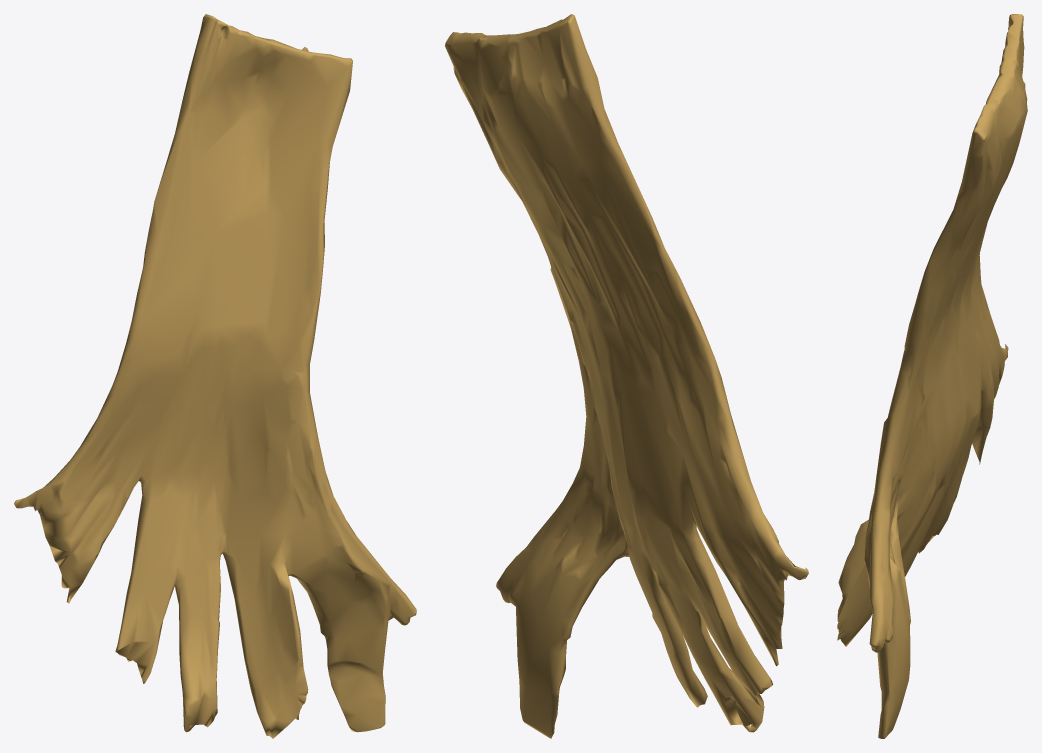
3 views of the same model, side by side, from view 1: azimuth 30°, elevation 25°; view 2: azimuth 150°, elevation 25°; view 3: azimuth 270°, elevation 25° (orthographic). The views are drawn at different scales.
Visible parts, largest first — view 1: 右侧足底长韧带; view 2: 右侧足底长韧带; view 3: 右侧足底长韧带.
Part boxes in pixels (<box>): 右侧足底长韧带: <box>14,14,416,738</box>; 右侧足底长韧带: <box>445,14,808,738</box>; 右侧足底长韧带: <box>837,14,1027,738</box>.
Bounding box in the file's own units: 0.0749 × 0.1471 × 0.0374.
